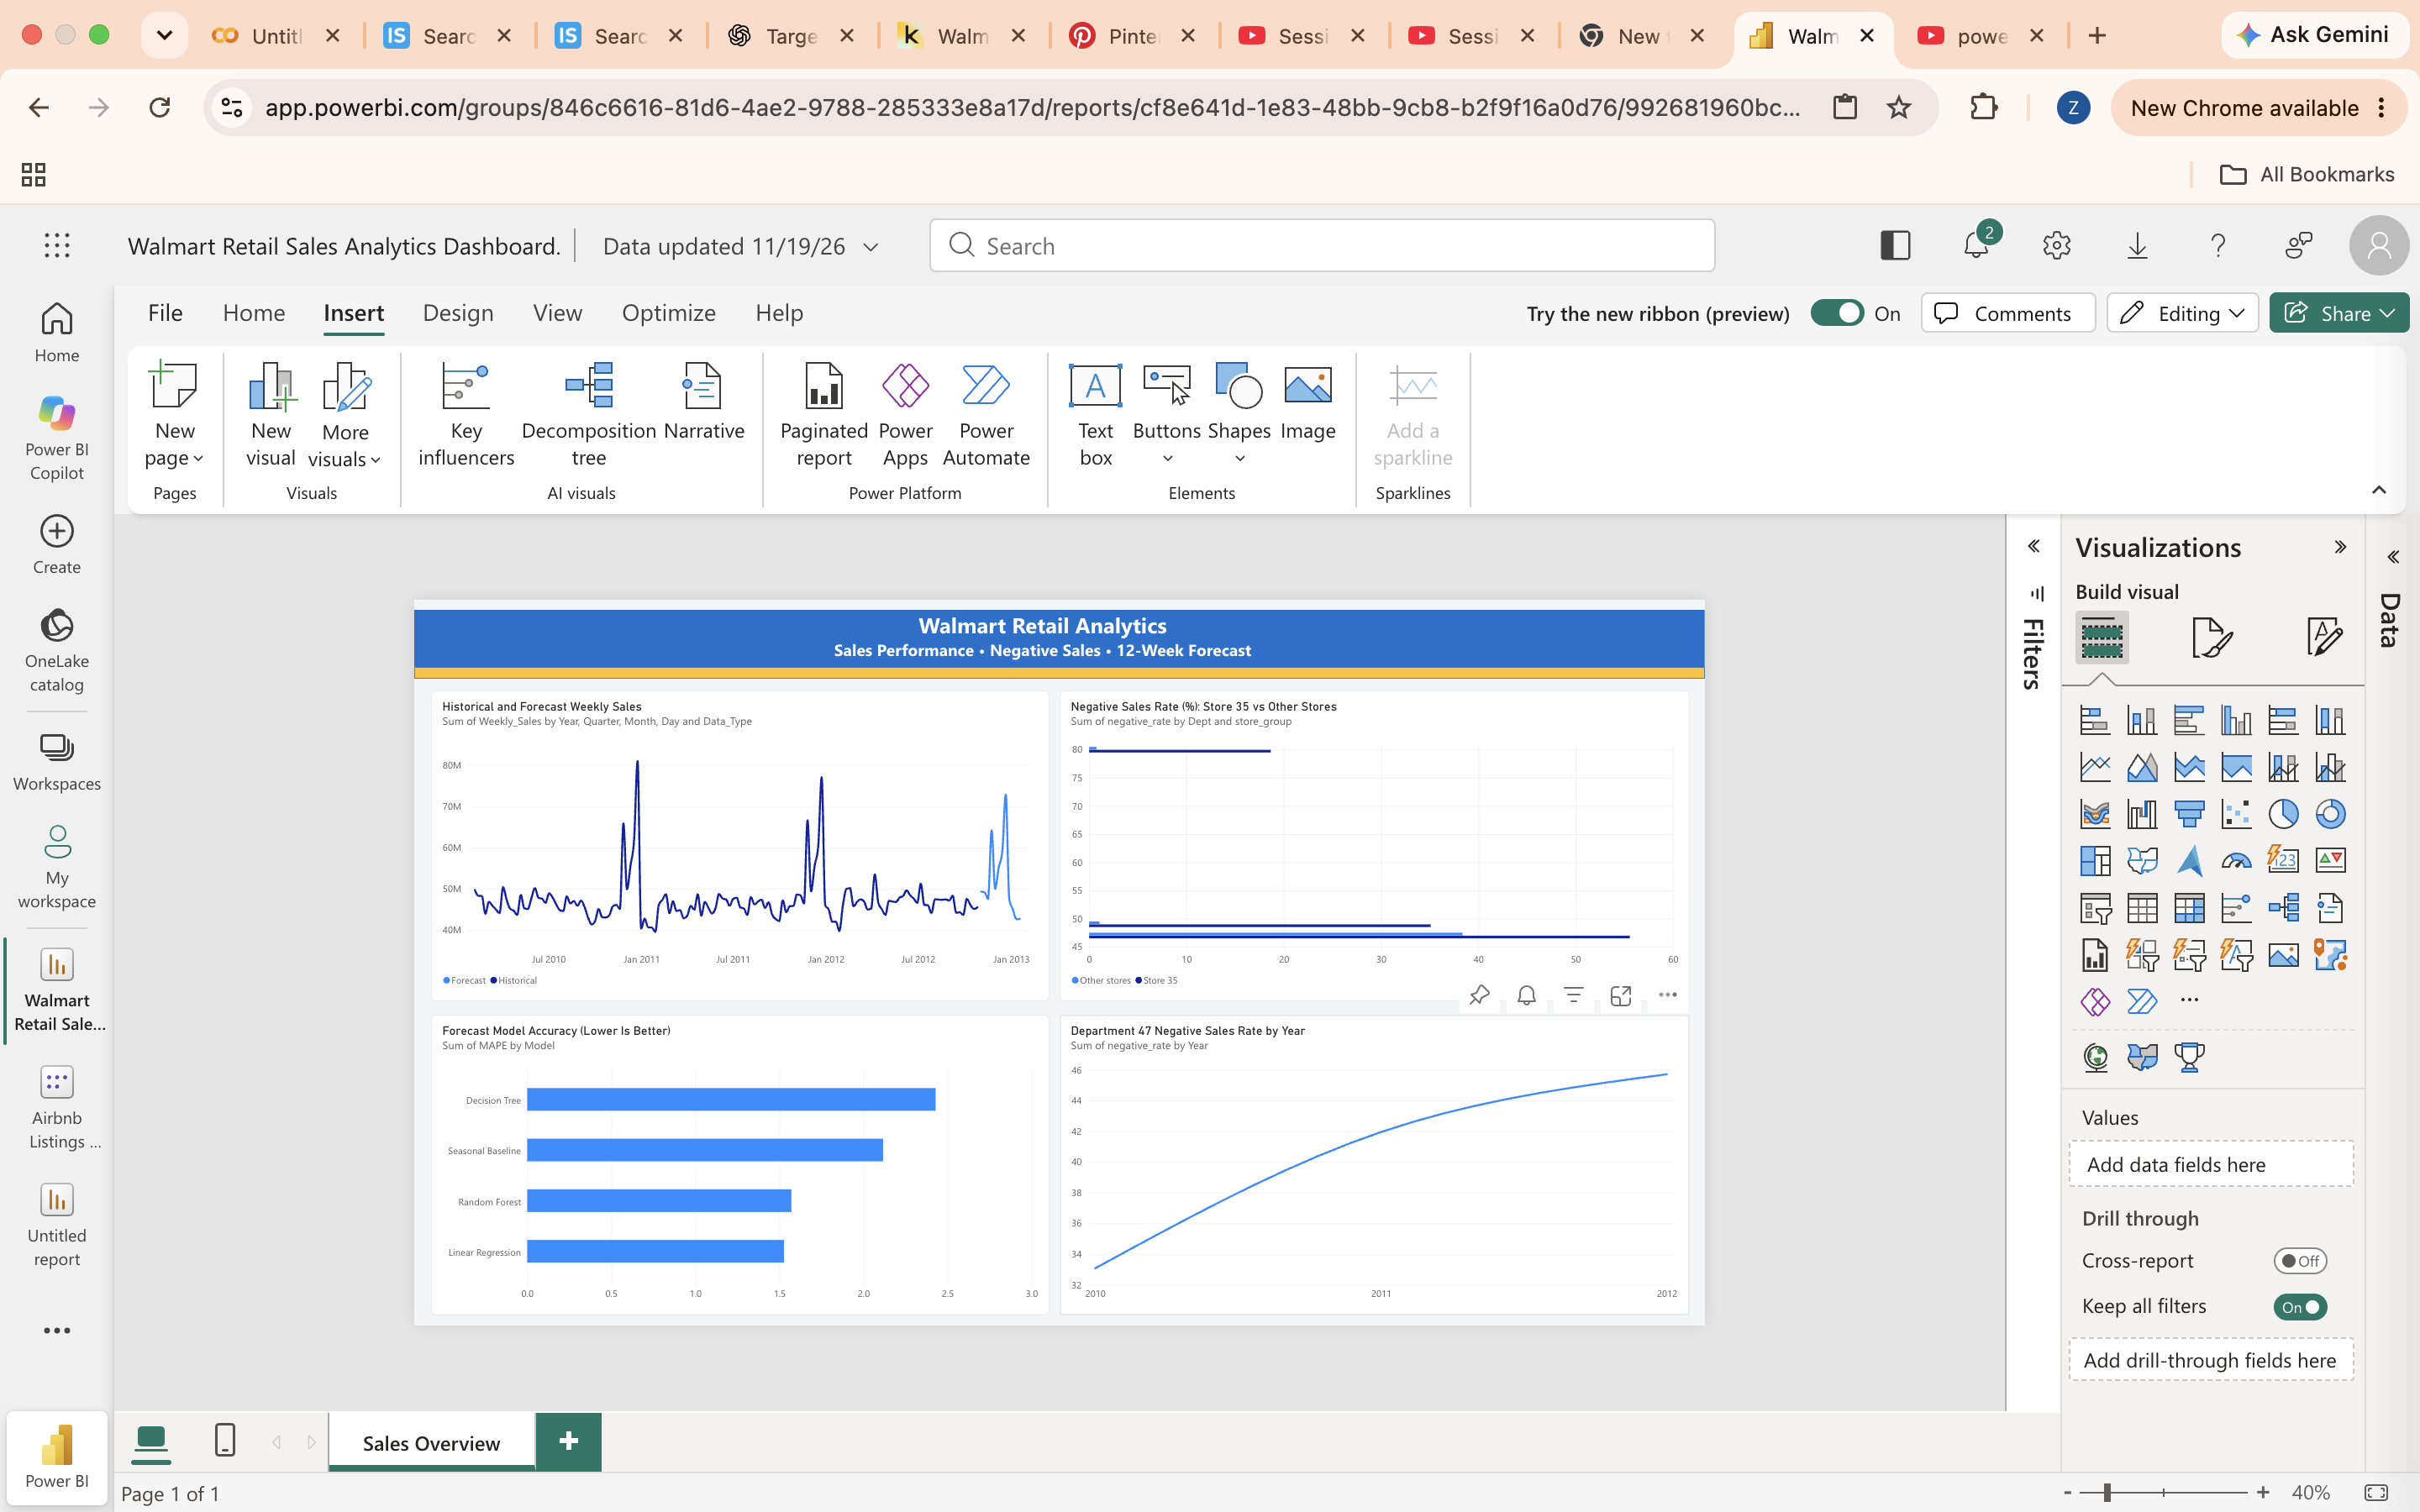

This screenshot's page, from the dashboard's own definition file:
{"tool":"powerbi","page":{"name":"Sales Overview","canvas":[1920,1080],"ordinal":0},"visuals":[{"type":"lineChart","title":"Historical and Forecast Weekly Sales","fields":{"Category":["Sales_Forecast.Date.Variation.Date Hierarchy.Year","Sales_Forecast.Date.Variation.Date Hierarchy.Quarter","Sales_Forecast.Date.Variation.Date Hierarchy.Month","Sales_Forecast.Date.Variation.Date Hierarchy.Day"],"Series":["Sales_Forecast.Data_Type"],"Y":["Sum(Sales_Forecast.Weekly_Sales)"]},"box":[25,135,920,462.5],"z":0},{"type":"clusteredBarChart","title":"Forecast Model Accuracy (Lower Is Better)","fields":{"Category":["Model_Results.Model"],"Y":["Sum(Model_Results.MAPE)"]},"box":[24.3,616.9,920.2,447],"z":1000},{"type":"clusteredBarChart","title":"Negative Sales Rate (%): Store 35 vs Other Stores","fields":{"Category":["Negative_Sales.Dept"],"Series":["Negative_Sales.store_group"],"Y":["Sum(Negative_Sales.negative_rate)"]},"box":[960,135,937.5,462.5],"z":2000},{"type":"lineChart","title":"Department 47 Negative Sales Rate by Year","fields":{"Category":["Dept47_Yearly.Year"],"Y":["Sum(Dept47_Yearly.negative_rate)"]},"box":[960.7,616.9,936.4,447],"z":3000},{"type":"shape","box":[0,16.2,1919.3,84.9],"z":4000},{"type":"textbox","box":[262.5,15,1345,85],"z":5000},{"type":"shape","box":[0,100,1920,17.5],"z":5001}]}

Visuals, with their boxes on the page's 1920x1080 design canvas (x1, y1, x2, y2). These are canvas units, not pixel positions in the 2420x1512 screenshot, which may show the page scaled, cropped or inside an application window:
"Historical and Forecast Weekly Sales" lineChart: left=25, top=135, right=945, bottom=598
"Forecast Model Accuracy (Lower Is Better)" clusteredBarChart: left=24, top=617, right=944, bottom=1064
"Negative Sales Rate (%): Store 35 vs Other Stores" clusteredBarChart: left=960, top=135, right=1898, bottom=598
"Department 47 Negative Sales Rate by Year" lineChart: left=961, top=617, right=1897, bottom=1064
shape: left=0, top=16, right=1919, bottom=101
textbox: left=262, top=15, right=1608, bottom=100
shape: left=0, top=100, right=1920, bottom=118
